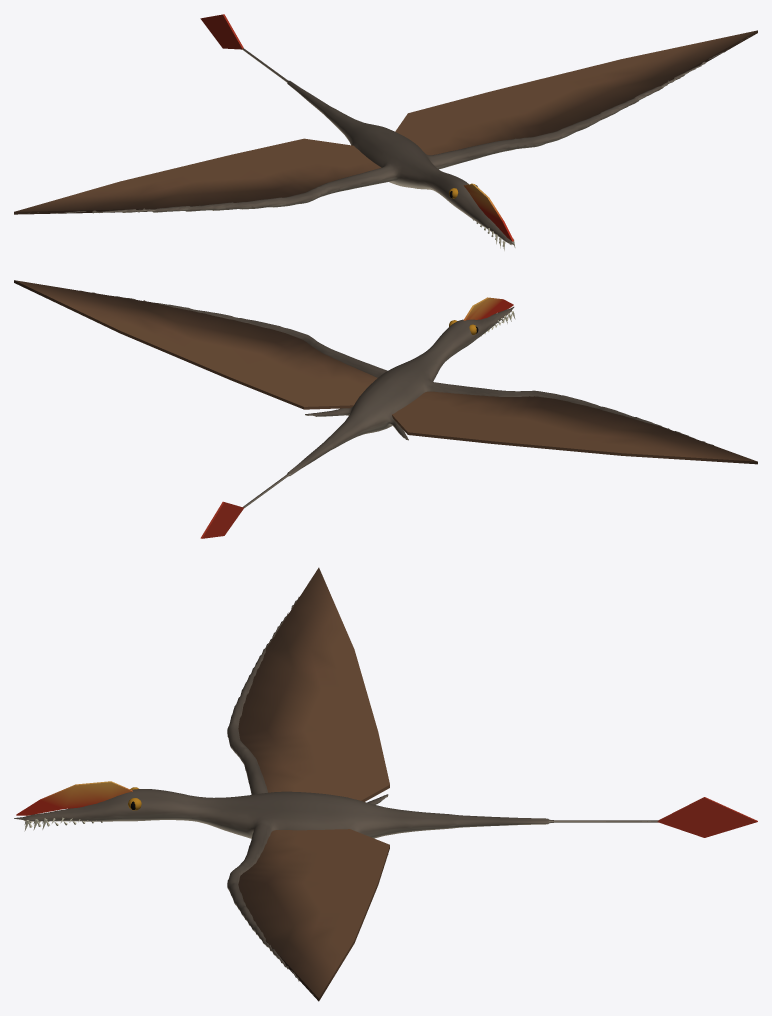
File: Austriadactylus.fbx
3 renders of one model, top to bottom at view 1: azimuth 30°, elevation 25°; view 2: azimuth 150°, elevation 25°; view 3: azimuth 270°, elevation 25°, orthographic. The views are drawn at different scales.
Visible parts, largest first — view 1: Austriadactylus; view 2: Austriadactylus; view 3: Austriadactylus.
Boxes of the visible parts, x1,y1,x2,y2 form: Austriadactylus: (14, 14, 757, 250); Austriadactylus: (14, 280, 757, 538); Austriadactylus: (14, 567, 757, 1001).
Size of the model in its own units: 1.72 by 0.1173 by 1.25.
